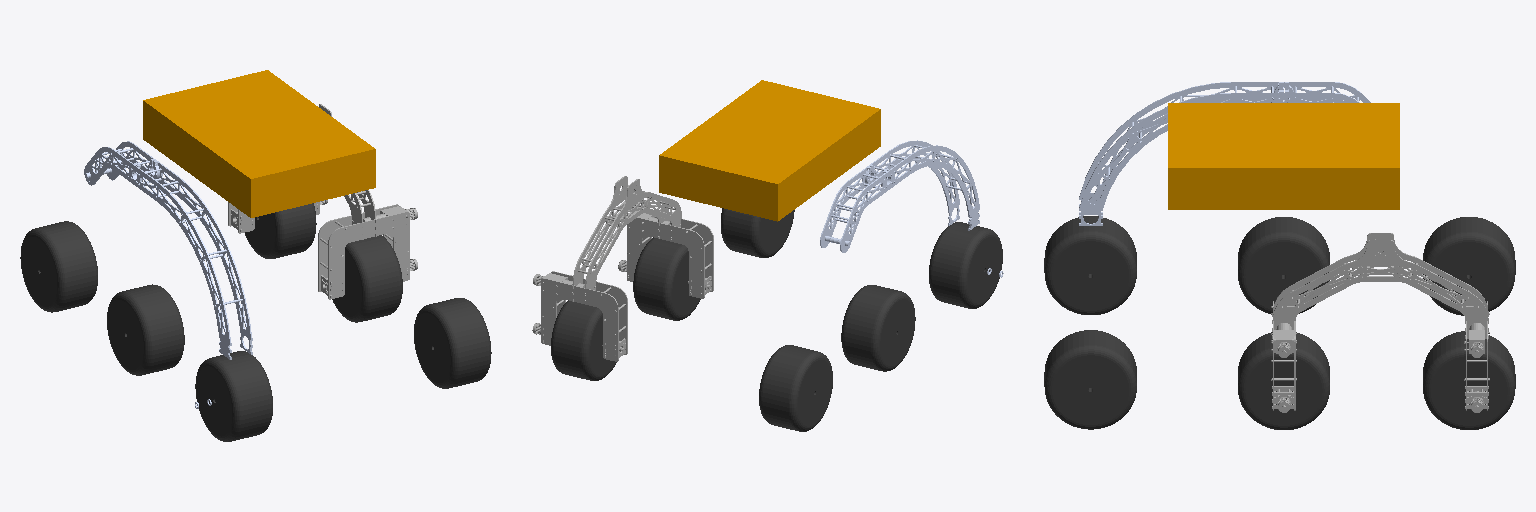
URDF robot description (bluetounge):
<robot
  name="bluetounge">
  <link name="base_link">
        <visual>
          <geometry>
            <box size=" .4   .6 .12"/>
          </geometry>
        </visual>
  </link>
  <link name="laser">
       <collision>
         <origin xyz="0 0 0" rpy="0 0 0"/>
         <geometry>
            <box size="0.1 0.1 0.1"/>
         </geometry>
       </collision>
       <visual>
         <origin xyz="0 0 0" rpy="0 0 0"/>
         <geometry>
           <mesh filename="package://owr_bluetounge_tf/meshes/hokuyo.dae"/>
         </geometry>
       </visual>
       <inertial>
         <mass value="1e-5" />
         <origin xyz="0 0 0" rpy="0 0 0"/>
         <inertia ixx="1e-6" ixy="0" ixz="0" iyy="1e-6" iyz="0" izz="1e-6" />
       </inertial>
 </link>
 <joint name="hokuyo_joint" type="fixed">
   <axis xyz="0 0 0" />
   <origin xyz="0.075 -.245 -0.1" rpy="0 3.14159 1.57079633"/>
   <parent link="base_link"/>
   <child link="laser"/>
 </joint>  
  <joint name="base_to_left_bogey" type="fixed">
      <parent link="base_link"/>
      <child link="left_bogey_top"/>
	<!-- .2 from center on x -->
      <origin xyz=".3 0 0.027" rpy="0 3.14159265 4.71238898"/>
      <axis xyz="0 0 1" />
  </joint>
  <link
    name="left_bogey_top">
    <inertial>
      <origin
        xyz="-0.094382 0.035191 0.10396"
        rpy="0 0 0" />
      <mass
        value="1.3772" />
      <inertia
        ixx="0.013062"
        ixy="0.00030538"
        ixz="-0.018196"
        iyy="0.10669"
        iyz="-0.00024198"
        izz="0.096319" />
    </inertial>
    <visual>
      <origin
        xyz="0 0 0"
        rpy="0 0 0" />
      <geometry>
        <mesh
          filename="package://owr_bluetounge_tf/meshes/left_bogey_top.STL" />
      </geometry>
      <material
        name="">
        <color
          rgba="0.86667 0.9098 1 1" />
      </material>
    </visual>
    <collision>
      <origin
        xyz="0 0 0"
        rpy="0 0 0" />
      <geometry>
        <mesh
          filename="package://owr_bluetounge_tf/meshes/left_bogey_top.STL" />
      </geometry>
    </collision>
  </link>
  <link
    name="left_front_wheel_hub">
    <inertial>
      <origin
        xyz="-0.11579 0.17312 -2.3336E-05"
        rpy="0 0 0" />
      <mass
        value="2.6838" />
      <inertia
        ixx="0.015763"
        ixy="-0.0036021"
        ixz="2.4611E-06"
        iyy="0.01238"
        iyz="4.0061E-07"
        izz="0.026734" />
    </inertial>
    <visual>
      <origin
        xyz="0 0 0"
        rpy="0 0 0" />
      <geometry>
        <mesh
          filename="package://owr_bluetounge_tf/meshes/left_front_wheel_hub.STL" />
      </geometry>
      <material
        name="">
        <color
          rgba="0.86667 0.9098 1 1" />
      </material>
    </visual>
    <collision>
      <origin
        xyz="0 0 0"
        rpy="0 0 0" />
      <geometry>
        <mesh
          filename="package://owr_bluetounge_tf/meshes/left_front_wheel_hub.STL" />
      </geometry>
    </collision>
  </link>
  <joint
    name="left_front_bogey_hub"
    type="fixed">
    <origin
      xyz="-0.50057 -0.090687 0.51198"
      rpy="0 -1.5706 0" />
    <parent
      link="left_bogey_top" />
    <child
      link="left_front_wheel_hub" />
    <axis
      xyz="0 0 0" />
  </joint>
  <link
    name="left_back_bogey">
    <inertial>
      <origin
        xyz="-0.078156 0.24943 -0.11724"
        rpy="0 0 0" />
      <mass
        value="6.2866" />
      <inertia
        ixx="0.4103"
        ixy="0.0002581"
        ixz="0.0022294"
        iyy="0.079125"
        iyz="9.8891E-05"
        izz="0.39691" />
    </inertial>
    <visual>
      <origin
        xyz="0 0 0"
        rpy="0 0 0" />
      <geometry>
        <mesh
          filename="package://owr_bluetounge_tf/meshes/left_back_bogey.STL" />
      </geometry>
      <material
        name="">
        <color
          rgba="0.75294 0.75294 0.75294 1" />
      </material>
    </visual>
    <collision>
      <origin
        xyz="0 0 0"
        rpy="0 0 0" />
      <geometry>
        <mesh
          filename="package://owr_bluetounge_tf/meshes/left_back_bogey.STL" />
      </geometry>
    </collision>
  </link>
  <joint
    name="left_bogey_axel"
    type="fixed">
    <origin
      xyz="-0.00031073 -0.0027889 0.49186"
      rpy="5.2352E-15 0 -1.5708" />
    <parent
      link="left_bogey_top" />
    <child
      link="left_back_bogey" />
    <axis
      xyz="0 0 0" />
  </joint>
<link
    name="WheelLF">
    <inertial>
      <origin
        xyz="-0.0640000000000001 -2.98155597433514E-18 0"
        rpy="0 0 0" />
      <mass
        value="1.86318344508723" />
      <inertia
        ixx="0.0179963942930543"
        ixy="-2.15672374578627E-18"
        ixz="1.63515966176784E-34"
        iyy="0.0131272204160217"
        iyz="-1.94143329058776E-34"
        izz="0.0131272204160217" />
    </inertial>
    <visual>
      <origin
        xyz="0 0 0"
        rpy="0 0 0" />
      <geometry>
        <mesh
          filename="package://owr_bluetounge_tf/meshes/Wheel.STL" />
      </geometry>
      <material
        name="">
        <color
          rgba="0.294117647058824 0.294117647058824 0.294117647058824 1" />
      </material>
    </visual>
    <collision>
      <origin
        xyz="0 0 0"
        rpy="0 0 0" />
      <geometry>
        <mesh
          filename="package://owr_bluetounge_tf/meshes/Wheel.STL" />
      </geometry>
    </collision>
  </link>
  <joint
    name="AxleLF"
    type="fixed">
    <!-- 0.0254710786476053 -0.0201166854458847  0.000315728425903225 -->
    <origin
      xyz="-0.02 .16 0.000315728425903225"
      rpy="1.5707963267949 0 1.57079633" />
    <parent
      link="left_front_wheel_hub" />
    <child
      link="WheelLF" />
    <axis
      xyz="0 0 0" />
  </joint>
  <link
    name="WheelLM">
    <inertial>
      <origin
        xyz="-0.0640000000000001 -2.98155597433514E-18 0"
        rpy="0 0 0" />
      <mass
        value="1.86318344508723" />
      <inertia
        ixx="0.0179963942930543"
        ixy="-2.15672374578627E-18"
        ixz="1.63515966176784E-34"
        iyy="0.0131272204160217"
        iyz="-1.94143329058776E-34"
        izz="0.0131272204160217" />
    </inertial>
    <visual>
      <origin
        xyz="0 0 0"
        rpy="0 0 0" />
      <geometry>
        <mesh
          filename="package://owr_bluetounge_tf/meshes/Wheel.STL" />
      </geometry>
      <material
        name="">
        <color
          rgba="0.294117647058824 0.294117647058824 0.294117647058824 1" />
      </material>
    </visual>
    <collision>
      <origin
        xyz="0 0 0"
        rpy="0 0 0" />
      <geometry>
        <mesh
          filename="package://owr_bluetounge_tf/meshes/Wheel.STL" />
      </geometry>
    </collision>
  </link>
  <joint
    name="AxleLM"
    type="fixed">
    <!-- 0.0254710786476053 -0.0201166854458847  0.000315728425903225 -->
    <origin
      xyz="0 0.02 0.02"
      rpy="1.5707963267949 0 0" />
    <parent
      link="left_back_bogey" />
    <child
      link="WheelLM" />
    <axis
      xyz="1 0 0" />
  </joint>
  <link
    name="WheelLB">
    <inertial>
      <origin
        xyz="-0.0640000000000001 -2.98155597433514E-18 0"
        rpy="0 0 0" />
      <mass
        value="1.86318344508723" />
      <inertia
        ixx="0.0179963942930543"
        ixy="-2.15672374578627E-18"
        ixz="1.63515966176784E-34"
        iyy="0.0131272204160217"
        iyz="-1.94143329058776E-34"
        izz="0.0131272204160217" />
    </inertial>
    <visual>
      <origin
        xyz="0 0 0"
        rpy="0 0 0" />
      <geometry>
        <mesh
          filename="package://owr_bluetounge_tf/meshes/Wheel.STL" />
      </geometry>
      <material
        name="">
        <color
          rgba="0.294117647058824 0.294117647058824 0.294117647058824 1" />
      </material>
    </visual>
    <collision>
      <origin
        xyz="0 0 0"
        rpy="0 0 0" />
      <geometry>
        <mesh
          filename="package://owr_bluetounge_tf/meshes/Wheel.STL" />
      </geometry>
    </collision>
  </link>
  <joint
    name="AxleLB"
    type="fixed">
    <!-- 0.0254710786476053 -0.0201166854458847  0.000315728425903225 -->
    <origin
      xyz="0 0.5 0.02"
      rpy="1.5707963267949 0 0" />
    <parent
      link="left_back_bogey" />
    <child
      link="WheelLB" />
    <axis
      xyz="1 0 0" />
  </joint>
  <joint name="base_to_right_bogey" type="fixed">
      <parent link="base_link"/>
      <child link="right_bogey_top"/>
	<!-- .2 from center on x -->
      <origin xyz="-.4 0 0.027" rpy="0 3.14159265 4.71238898"/>
      <axis xyz="0 0 1" />
  </joint>
  <link
    name="right_bogey_top">
    <inertial>
      <origin
        xyz="-0.094382 0.035191 0.10396"
        rpy="0 0 0" />
      <mass
        value="1.3772" />
      <inertia
        ixx="0.013062"
        ixy="0.00030538"
        ixz="-0.018196"
        iyy="0.10669"
        iyz="-0.00024198"
        izz="0.096319" />
    </inertial>
    <visual>
      <origin
        xyz="0 0 0"
        rpy="0 0 0" />
      <geometry>
        <mesh
          filename="package://owr_bluetounge_tf/meshes/right_bogey_top.STL" />
      </geometry>
      <material
        name="">
        <color
          rgba="0.86667 0.9098 1 1" />
      </material>
    </visual>
    <collision>
      <origin
        xyz="0 0 0"
        rpy="0 0 0" />
      <geometry>
        <mesh
          filename="package://owr_bluetounge_tf/meshes/right_bogey_top.STL" />
      </geometry>
    </collision>
  </link>
  <link
    name="right_front_wheel_hub">
    <inertial>
      <origin
        xyz="-0.11579 0.17312 -2.3336E-05"
        rpy="0 0 0" />
      <mass
        value="2.6838" />
      <inertia
        ixx="0.015763"
        ixy="-0.0036021"
        ixz="2.4611E-06"
        iyy="0.01238"
        iyz="4.0061E-07"
        izz="0.026734" />
    </inertial>
    <visual>
      <origin
        xyz="0 0 0"
        rpy="0 0 0" />
      <geometry>
        <mesh
          filename="package://owr_bluetounge_tf/meshes/right_front_wheel_hub.STL" />
      </geometry>
      <material
        name="">
        <color
          rgba="0.86667 0.9098 1 1" />
      </material>
    </visual>
    <collision>
      <origin
        xyz="0 0 0"
        rpy="0 0 0" />
      <geometry>
        <mesh
          filename="package://owr_bluetounge_tf/meshes/right_front_wheel_hub.STL" />
      </geometry>
    </collision>
  </link>
  <joint
    name="right_front_bogey_hub"
    type="fixed">
    <origin
      xyz="-0.50057 -0.090687 0.51198"
      rpy="0 -1.5706 0" />
    <parent
      link="right_bogey_top" />
    <child
      link="right_front_wheel_hub" />
    <axis
      xyz="0 0 0" />
  </joint>
  <link
    name="right_back_bogey">
    <inertial>
      <origin
        xyz="-0.078156 0.24943 -0.11724"
        rpy="0 0 0" />
      <mass
        value="6.2866" />
      <inertia
        ixx="0.4103"
        ixy="0.0002581"
        ixz="0.0022294"
        iyy="0.079125"
        iyz="9.8891E-05"
        izz="0.39691" />
    </inertial>
    <visual>
      <origin
        xyz="0 0 0"
        rpy="0 0 0" />
      <geometry>
        <mesh
          filename="package://owr_bluetounge_tf/meshes/right_back_bogey.STL" />
      </geometry>
      <material
        name="">
        <color
          rgba="0.75294 0.75294 0.75294 1" />
      </material>
    </visual>
    <collision>
      <origin
        xyz="0 0 0"
        rpy="0 0 0" />
      <geometry>
        <mesh
          filename="package://owr_bluetounge_tf/meshes/right_back_bogey.STL" />
      </geometry>
    </collision>
  </link>
  <joint
    name="right_bogey_axel"
    type="fixed">
    <origin
      xyz="-0.00031073 -0.0027889 0.49186"
      rpy="5.2352E-15 0 -1.5708" />
    <parent
      link="right_bogey_top" />
    <child
      link="right_back_bogey" />
    <axis
      xyz="0 0 0" />
  </joint>
<link
    name="WheelRF">
    <inertial>
      <origin
        xyz="-0.0640000000000001 -2.98155597433514E-18 0"
        rpy="0 0 0" />
      <mass
        value="1.86318344508723" />
      <inertia
        ixx="0.0179963942930543"
        ixy="-2.15672374578627E-18"
        ixz="1.63515966176784E-34"
        iyy="0.0131272204160217"
        iyz="-1.94143329058776E-34"
        izz="0.0131272204160217" />
    </inertial>
    <visual>
      <origin
        xyz="0 0 0"
        rpy="0 0 0" />
      <geometry>
        <mesh
          filename="package://owr_bluetounge_tf/meshes/Wheel.STL" />
      </geometry>
      <material
        name="">
        <color
          rgba="0.294117647058824 0.294117647058824 0.294117647058824 1" />
      </material>
    </visual>
    <collision>
      <origin
        xyz="0 0 0"
        rpy="0 0 0" />
      <geometry>
        <mesh
          filename="package://owr_bluetounge_tf/meshes/Wheel.STL" />
      </geometry>
    </collision>
  </link>
  <joint
    name="AxleRF"
    type="fixed">
    <!-- 0.0254710786476053 -0.0201166854458847  0.000315728425903225 -->
    <origin
      xyz="-0.02 .16 0.000315728425903225"
      rpy="1.5707963267949 0 1.57079633" />
    <parent
      link="right_front_wheel_hub" />
    <child
      link="WheelRF" />
    <axis
      xyz="0 0 0" />
  </joint>
  <link

    name="WheelRM">
    <inertial>
      <origin

        xyz="-0.0640000000000001 -2.98155597433514E-18 0"

        rpy="0 0 0" />
      <mass

        value="1.86318344508723" />
      <inertia

        ixx="0.0179963942930543"

        ixy="-2.15672374578627E-18"

        ixz="1.63515966176784E-34"

        iyy="0.0131272204160217"

        iyz="-1.94143329058776E-34"

        izz="0.0131272204160217" />
    </inertial>
    <visual>
      <origin

        xyz="0 0 0"

        rpy="0 0 0" />
      <geometry>
        <mesh

          filename="package://owr_bluetounge_tf/meshes/Wheel.STL" />
      </geometry>
      <material
        name="">
        <color
          rgba="0.294117647058824 0.294117647058824 0.294117647058824 1" />
      </material>
    </visual>
    <collision>
      <origin
        xyz="0 0 0"
        rpy="0 0 0" />
      <geometry>
        <mesh
          filename="package://owr_bluetounge_tf/meshes/Wheel.STL" />
      </geometry>
    </collision>
  </link>
  <joint
    name="AxleRM"
    type="fixed">
    <!-- 0.0254710786476053 -0.0201166854458847  0.000315728425903225 -->
    <origin
      xyz="0 0.02 0.02"
      rpy="1.5707963267949 0 0" />
    <parent
      link="right_back_bogey" />
    <child
      link="WheelRM" />
    <axis
      xyz="1 0 0" />
  </joint>
  <link
    name="WheelRB">
    <inertial>
      <origin

        xyz="-0.0640000000000001 -2.98155597433514E-18 0"
        rpy="0 0 0" />
      <mass
        value="1.86318344508723" />
      <inertia
        ixx="0.0179963942930543"
        ixy="-2.15672374578627E-18"
        ixz="1.63515966176784E-34"
        iyy="0.0131272204160217"
        iyz="-1.94143329058776E-34"
        izz="0.0131272204160217" />
    </inertial>
    <visual>
      <origin

        xyz="0 0 0"
        rpy="0 0 0" />
      <geometry>
        <mesh
          filename="package://owr_bluetounge_tf/meshes/Wheel.STL" />
      </geometry>
      <material
        name="">
        <color
          rgba="0.294117647058824 0.294117647058824 0.294117647058824 1" />
      </material>
    </visual>
    <collision>
      <origin
        xyz="0 0 0"
        rpy="0 0 0" />
      <geometry>
        <mesh
          filename="package://owr_bluetounge_tf/meshes/Wheel.STL" />
      </geometry>
    </collision>
  </link>
  <joint
    name="AxleRB"
    type="fixed">
    <!-- 0.0254710786476053 -0.0201166854458847  0.000315728425903225 -->
    <origin
      xyz="0 0.5 0.02"
      rpy="1.5707963267949 0 0" />
    <parent
      link="right_back_bogey" />
    <child
      link="WheelRB" />
    <axis
      xyz="1 0 0" />
  </joint>
</robot>

--- Render facts (derived) ---
The picture shows the robot from 3 angles, left to right: view 1: azimuth 30°, elevation 25°; view 2: azimuth 150°, elevation 25°; view 3: azimuth 270°, elevation 25°; orthographic projection.
Model bluetounge with 14 links and 13 joints (13 fixed), rooted at base_link, posed all joints at 0.
Links seen in each view (by area): view 1: base_link, right_bogey_top, left_back_bogey, WheelRM, WheelLF, WheelRB, WheelRF, WheelLM, WheelLB; view 2: base_link, left_back_bogey, right_bogey_top, WheelRB, WheelRM, WheelRF, WheelLM, WheelLB, WheelLF; view 3: base_link, left_back_bogey, WheelLF, WheelRF, right_bogey_top, WheelLB, WheelLM, WheelRM, WheelRB.
Link boxes in pixels (x1,y1,x2,y2): base_link: (143, 70, 375, 217); right_bogey_top: (84, 141, 252, 408); left_back_bogey: (228, 104, 417, 299); WheelRM: (107, 284, 184, 375); WheelLF: (414, 298, 491, 388); WheelRB: (20, 221, 97, 312); WheelRF: (195, 351, 272, 441); WheelLM: (332, 235, 402, 322); WheelLB: (245, 203, 316, 258); base_link: (659, 80, 880, 221); left_back_bogey: (532, 176, 713, 361); right_bogey_top: (820, 140, 1003, 277); WheelRB: (759, 345, 832, 431); WheelRM: (841, 285, 915, 371); WheelRF: (929, 222, 1002, 308); WheelLM: (633, 237, 700, 320); WheelLB: (551, 300, 616, 380); WheelLF: (721, 208, 794, 257); base_link: (1168, 103, 1399, 209); left_back_bogey: (1271, 233, 1489, 412); WheelLF: (1044, 330, 1136, 429); WheelRF: (1044, 216, 1136, 314); right_bogey_top: (1079, 82, 1370, 225); WheelLB: (1423, 331, 1515, 429); WheelLM: (1238, 332, 1329, 429); WheelRM: (1238, 217, 1329, 313); WheelRB: (1423, 217, 1515, 315).
Size in the robot's own frame: 0.9972 by 1.22 by 0.6652 metres.
Meshes: 8 distinct files referenced, 8 mesh visuals loaded (3 binary STL); not drawn: 3 (reference not matched to a file when rendering), 2 (file found but could not be loaded).